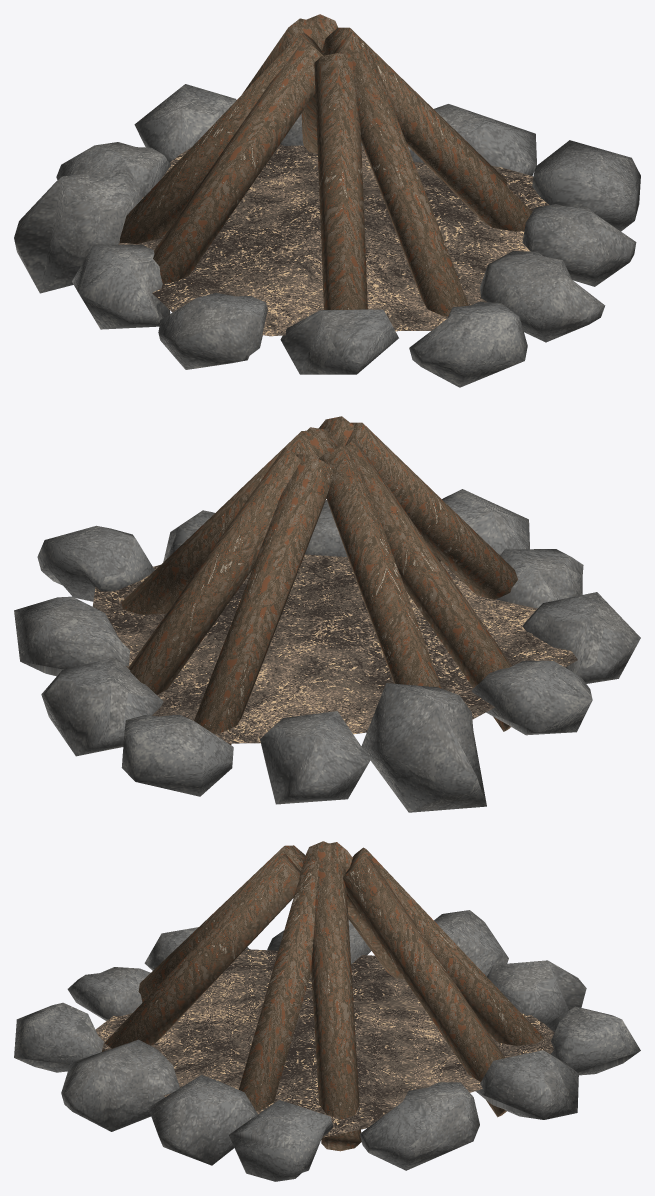
Rendered from M_Campfire.glb.
3 views of the same model, one above another, from view 1: azimuth 30°, elevation 25°; view 2: azimuth 150°, elevation 25°; view 3: azimuth 270°, elevation 25° (orthographic). The views are drawn at different scales.
Parts seen in each view (by area): view 1: Stones, Cube, Ash; view 2: Stones, Cube, Ash; view 3: Stones, Cube, Ash.
Boxes of the visible parts, x1,y1,x2,y2 form: Stones: (14, 84, 640, 387); Cube: (119, 14, 531, 316); Ash: (118, 144, 549, 336); Stones: (14, 489, 640, 812); Cube: (121, 416, 517, 744); Ash: (92, 554, 577, 743); Stones: (14, 910, 640, 1181); Cube: (102, 841, 544, 1151); Ash: (95, 949, 554, 1137).
Size of the model in its own units: 5.76 by 2.55 by 6.2.
Materials: 3 (3 with a texture image).
